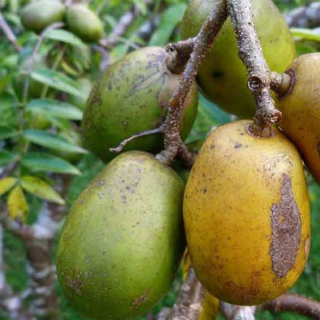coc: (181, 119, 309, 306), (57, 149, 183, 320)
